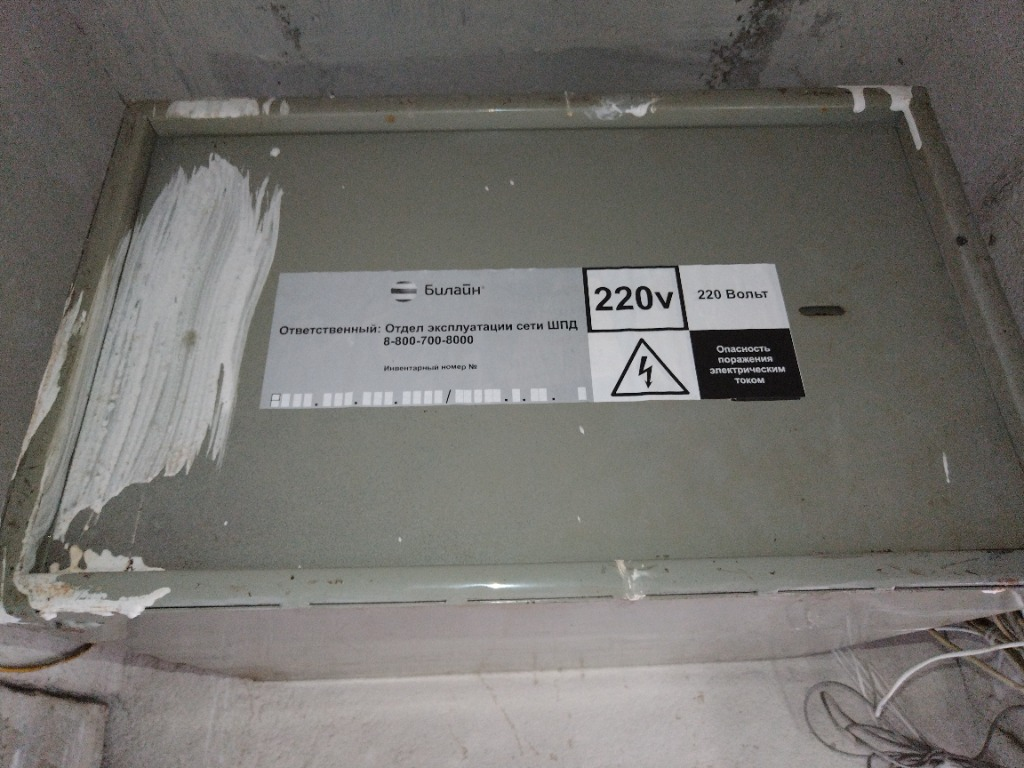e2-6u: (1, 77, 1022, 685)
